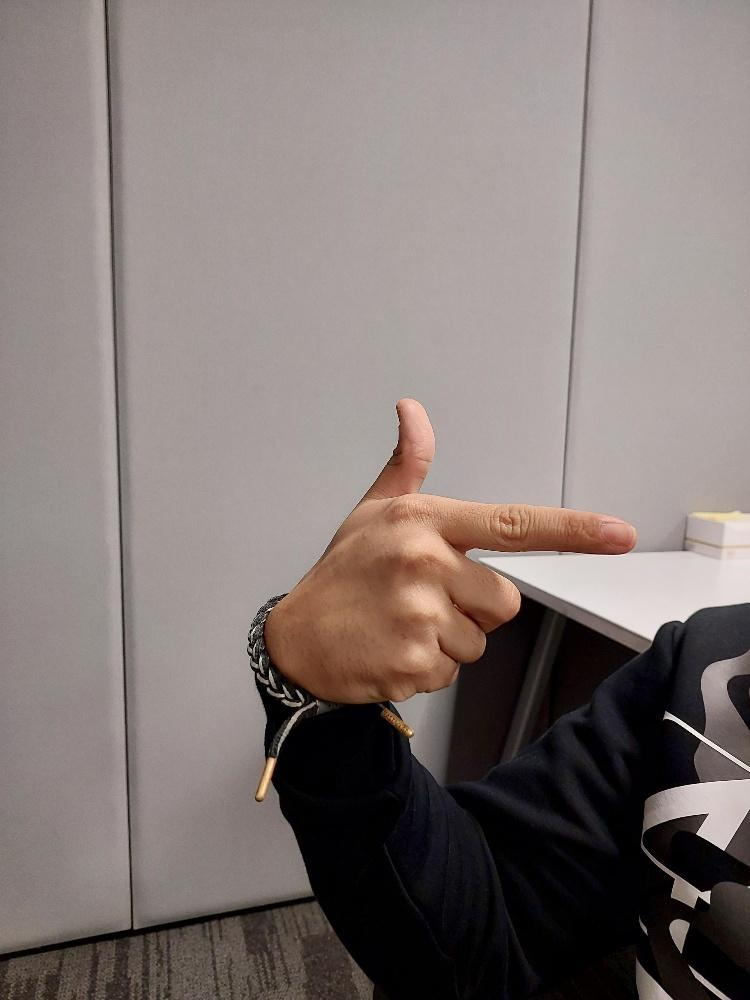g: (248, 396, 639, 706)
